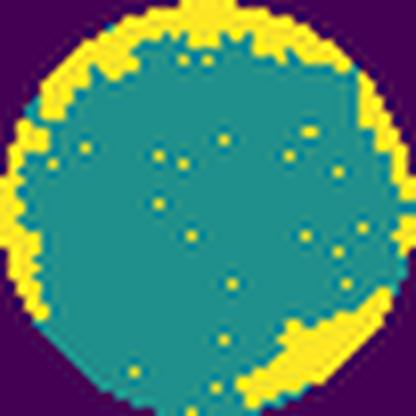Edge-Loc: (37, 0, 415, 197), (235, 282, 404, 409), (0, 113, 54, 322), (395, 211, 415, 255)
